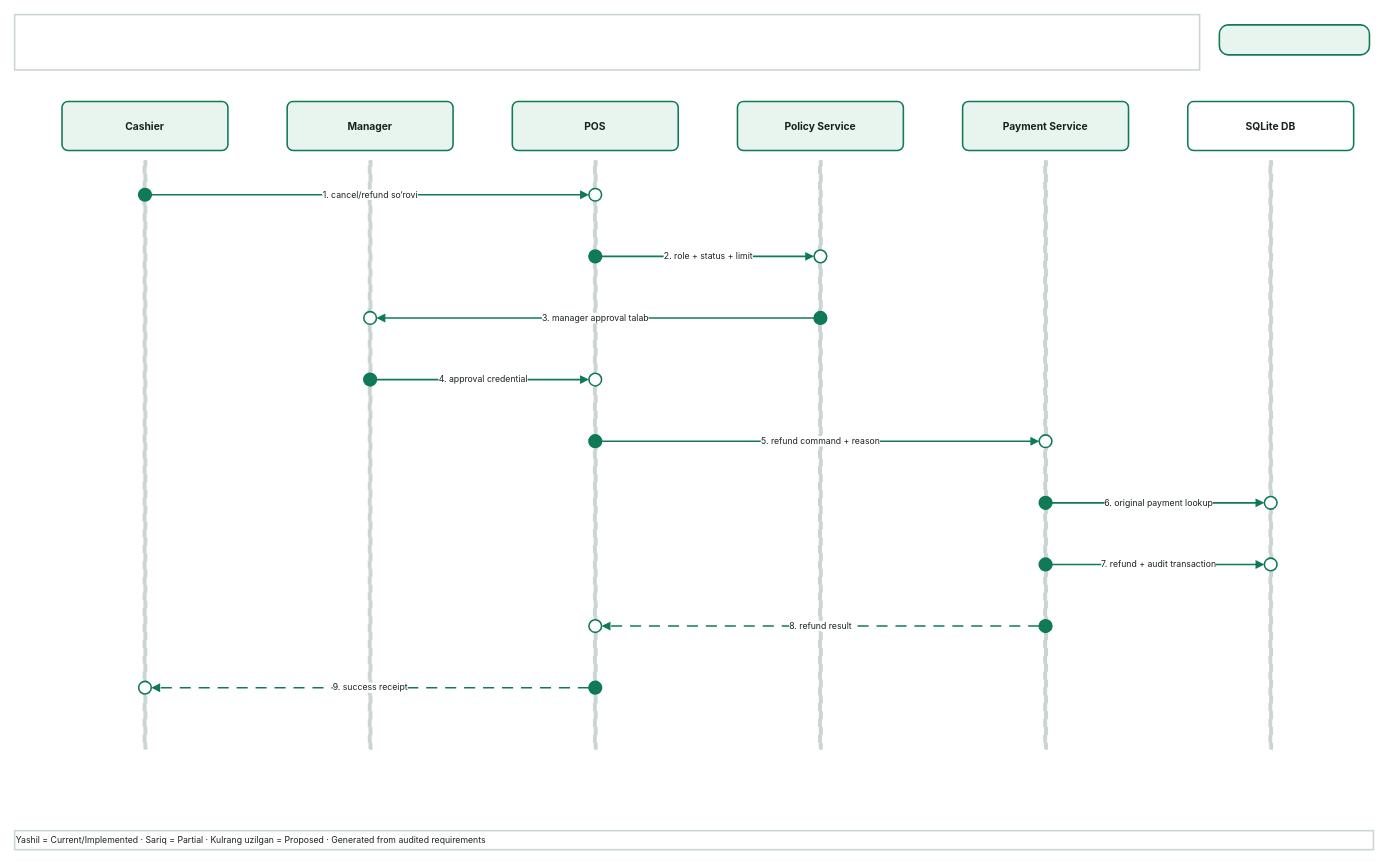
Image size: 1387x863. Some labels were removed from this diagram. The shapes that lost their labels are listed below. From the top down, each one's centre as x and y in pixels, then its label:
At [606,41]: "D11 · Cancel Refund Approval UML Sequence · osonCafe SDLC".
At [1294,39]: "Current".
